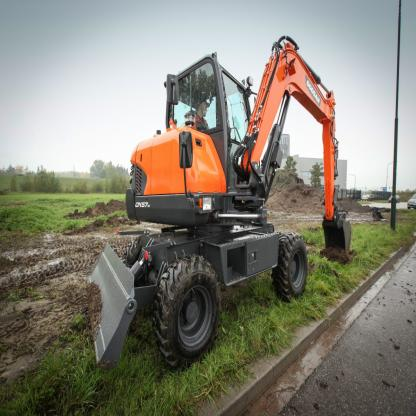excavator: (85, 23, 366, 363)
